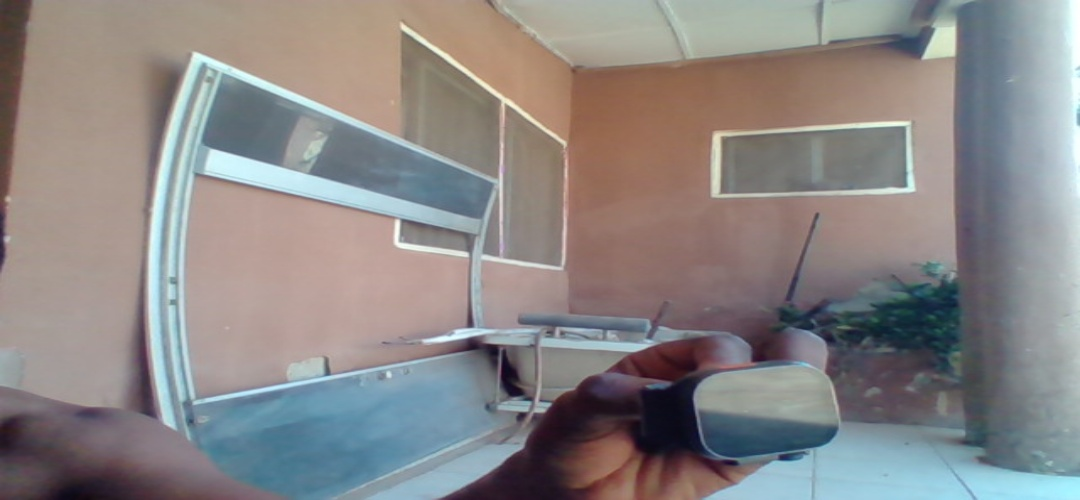smart_watch: (654, 359, 843, 469)
